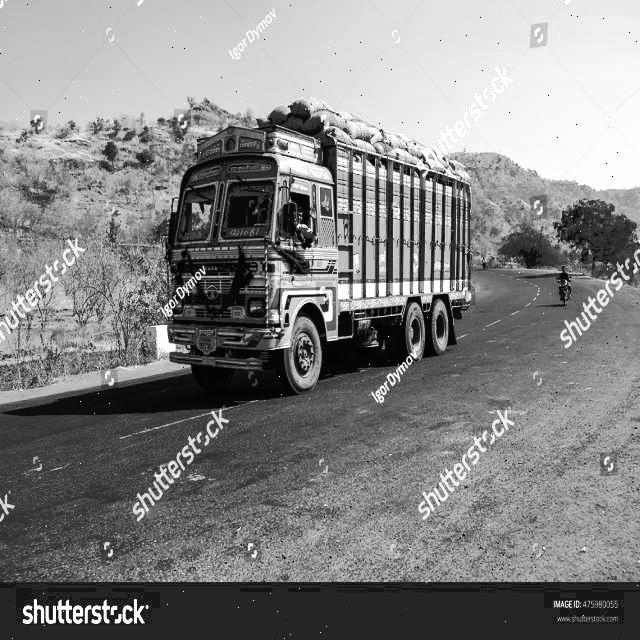HCV: (105, 63, 513, 405)
